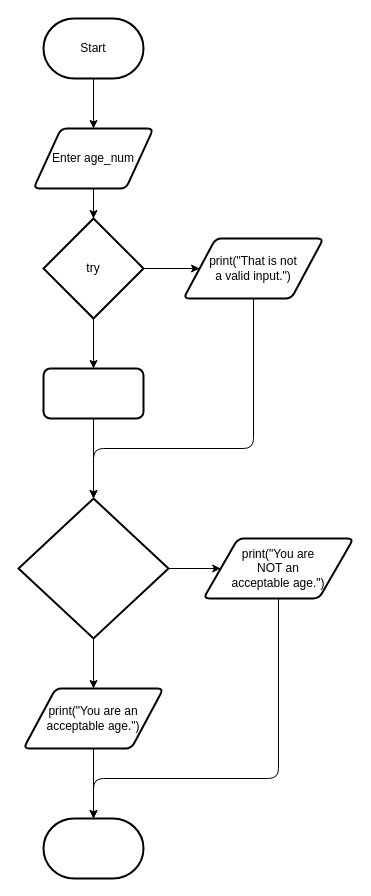
Some shapes in this 371 by 896 pixel diagram are drawn without their labels. Each missing label, with the box of its shape:
convert string to int: (42, 367, 144, 419)
if age_num >= 25 and age_num <= 40:: (17, 497, 169, 639)
Stop: (42, 817, 144, 879)
